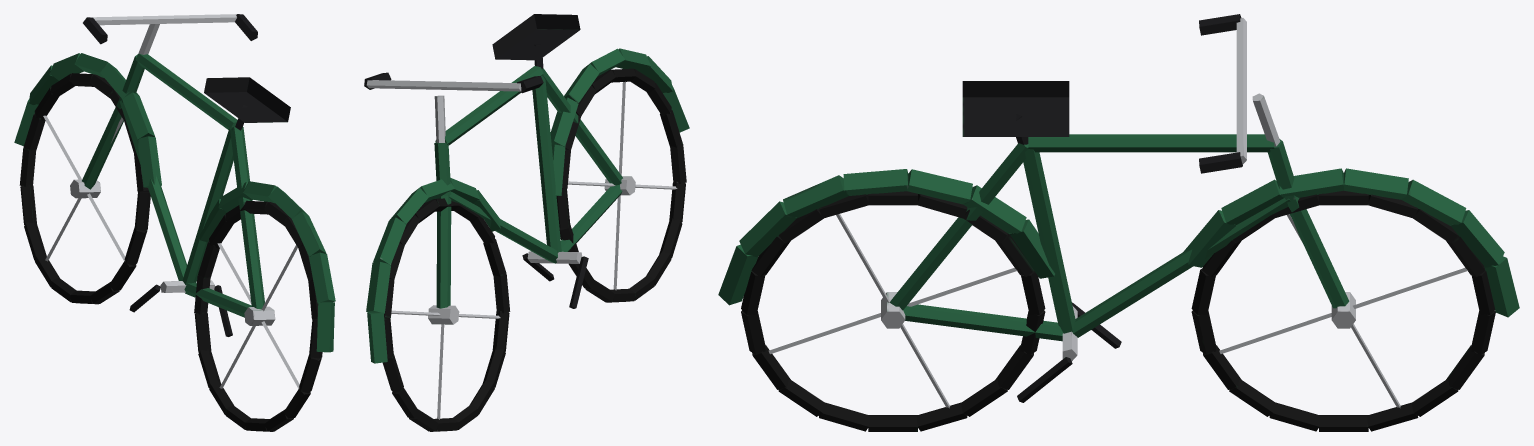
The model's file is kolo_706ec1ed.glb.
3 views of the same model, side by side, from view 1: azimuth 30°, elevation 25°; view 2: azimuth 150°, elevation 25°; view 3: azimuth 270°, elevation 25° (orthographic). The views are drawn at different scales.
Visible parts, largest first — view 1: dum; view 2: dum; view 3: dum.
Part boxes in pixels (x1,y1,x2,y2): dum: (14,14,335,431); dum: (364,14,689,431); dum: (718,14,1519,431).
Size of the model in its own units: 0.5867 by 1.09 by 1.95.
Materials: 1 (1 with a texture image).
